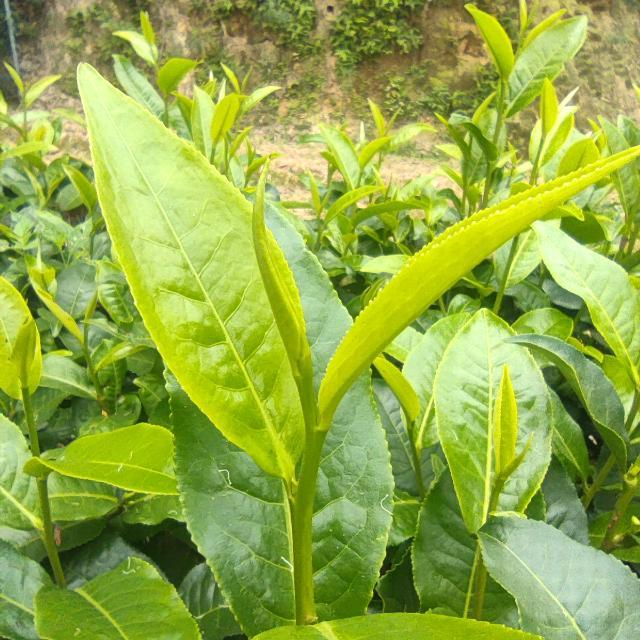Stem: (304, 430, 328, 455), (539, 138, 546, 145), (211, 144, 217, 150), (317, 213, 320, 218)
